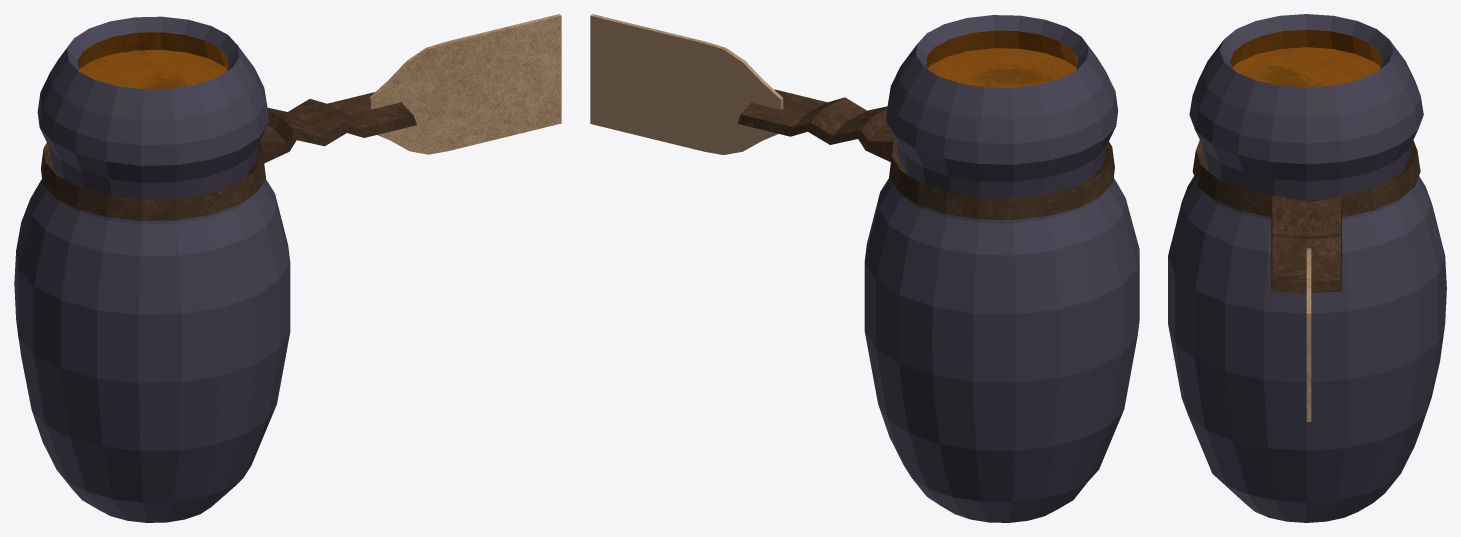
Rendered from bouteilleFinal.fbx.
3 renders of one model, left to right at view 1: azimuth 30°, elevation 25°; view 2: azimuth 150°, elevation 25°; view 3: azimuth 270°, elevation 25°, orthographic.
Visible parts, largest first — view 1: bouteille; view 2: bouteille; view 3: bouteille.
Part boxes in pixels (x1,y1,x2,y2): bouteille: (14, 14, 561, 522); bouteille: (590, 14, 1139, 522); bouteille: (1168, 14, 1446, 522).
Bounding box in the file's own units: 4.36 × 3.54 × 1.99.
